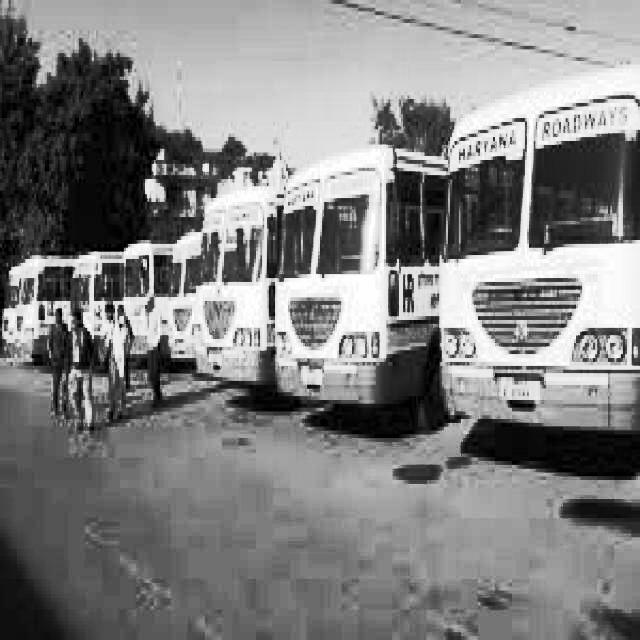Bus: (432, 49, 640, 477), (276, 130, 436, 436), (191, 160, 274, 411), (119, 222, 172, 372), (67, 224, 120, 371), (17, 243, 69, 380)
